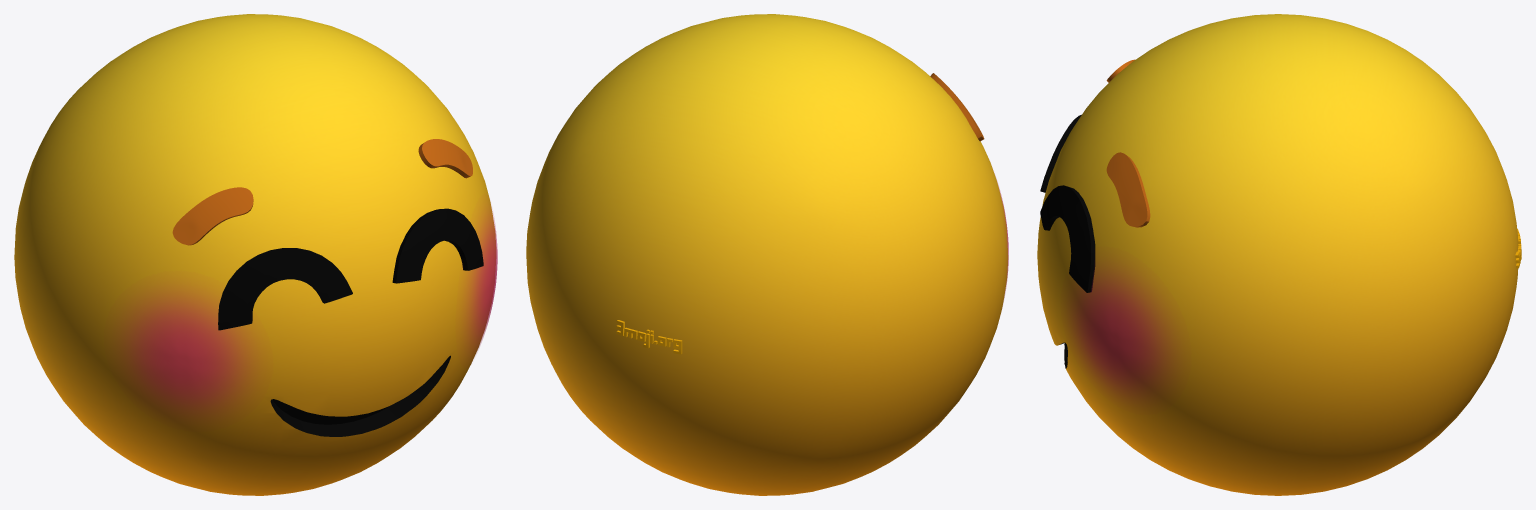
File: smiling_face.gltf
The picture shows the model from 3 angles, left to right: view 1: azimuth 30°, elevation 25°; view 2: azimuth 150°, elevation 25°; view 3: azimuth 270°, elevation 25°; orthographic projection.
Visible parts, largest first — view 1: Smiling Face; view 2: Smiling Face; view 3: Smiling Face.
Boxes of the visible parts, left/top/right/bottom form: Smiling Face: left=14, top=14, right=497, bottom=495; Smiling Face: left=526, top=14, right=1008, bottom=495; Smiling Face: left=1037, top=14, right=1521, bottom=495.
Size of the model in its own units: 1.69 by 1.69 by 1.7.
3 materials, 3 textured.
